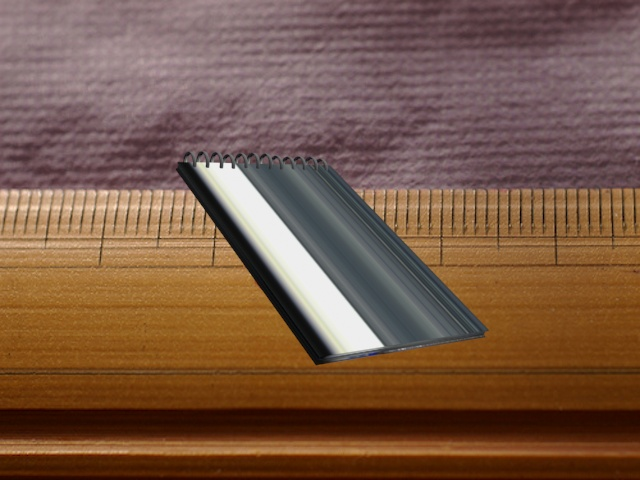paper_notebook: (169, 145, 496, 369)
